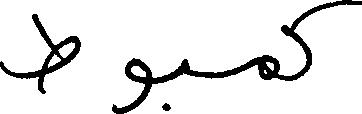X: (0, 9, 80, 98), (291, 0, 361, 85), (115, 53, 150, 113), (260, 50, 278, 84), (178, 54, 189, 80)
